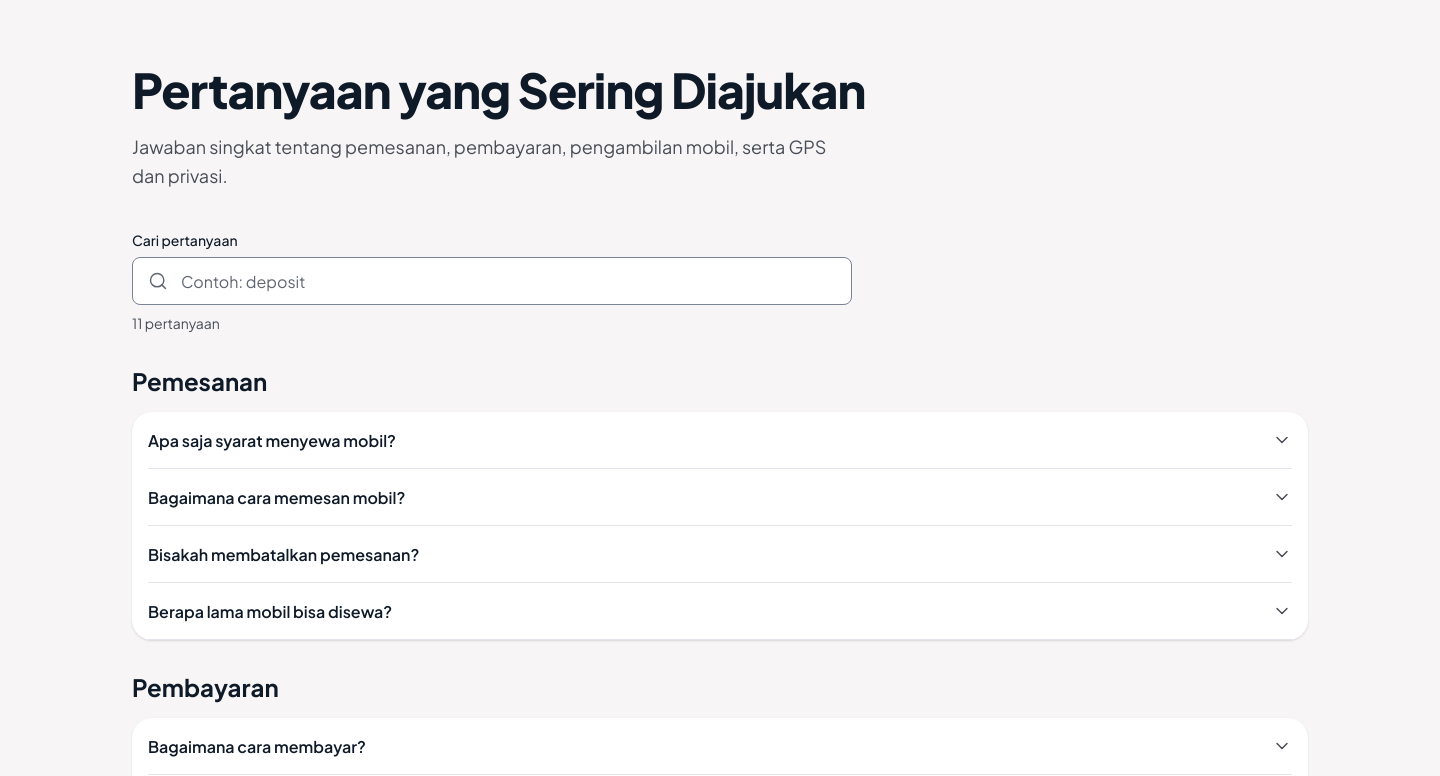
Scenario: FAQ › filters as the visitor types and announces the count
Type "deposit" into the search field labelled "Cari pertanyaan".
click(492, 281); type("deposit")  # box [132,257,852,305]
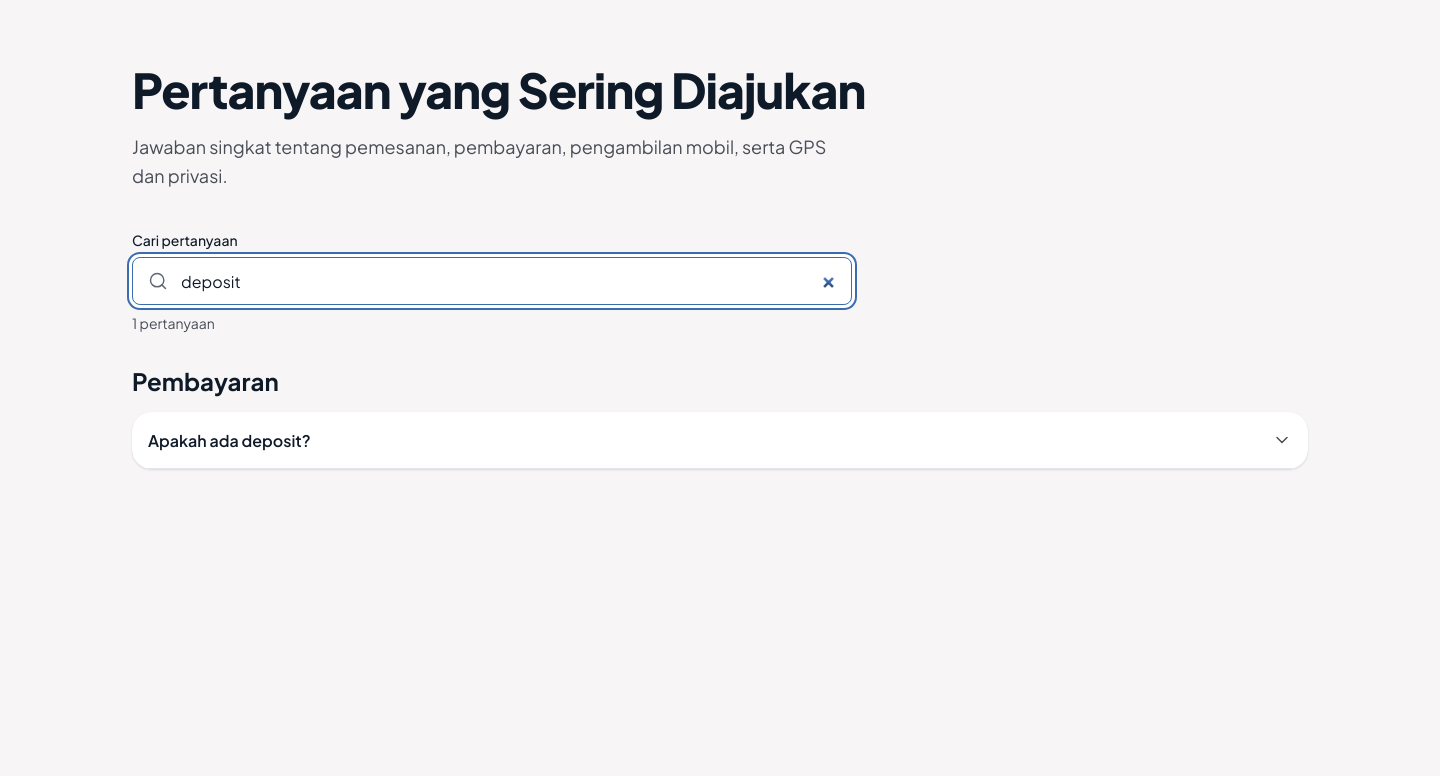
Expected: the button "Apakah ada deposit?" is shown, [148,412,1292,468]
Now the message reads "1 pertanyaan", box [132,314,215,332]
